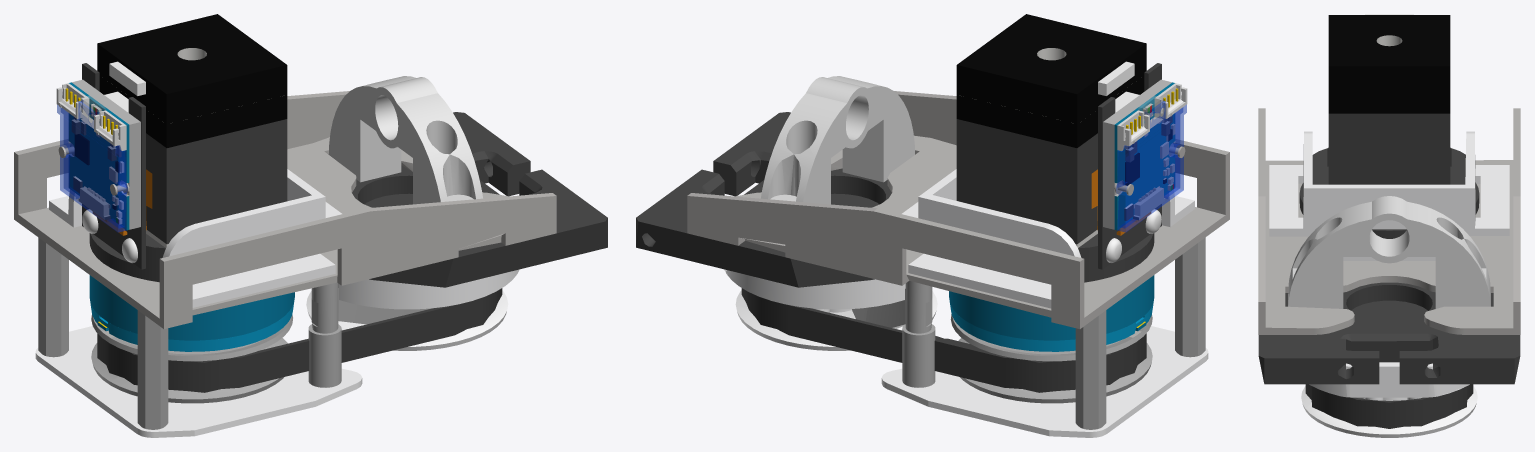
The model's file is hip_sphere_link.dae.
3 renders of one model, left to right at view 1: azimuth 30°, elevation 25°; view 2: azimuth 150°, elevation 25°; view 3: azimuth 270°, elevation 25°, orthographic. The views are drawn at different scales.
Visible parts, largest first — view 1: FBXASC227FBXASC130FBXASC189FBXASC227FBXASC131FBXASC170FBXASC (×25); view 2: FBXASC227FBXASC130FBXASC189FBXASC227FBXASC131FBXASC170FBXASC (×25); view 3: FBXASC227FBXASC130FBXASC189FBXASC227FBXASC131FBXASC170FBXASC (×10).
Part boxes in pixels (x1=…): FBXASC227FBXASC130FBXASC189FBXASC227FBXASC131FBXASC170FBXASC (×25): x1=14, y1=14, x2=607, y2=437; FBXASC227FBXASC130FBXASC189FBXASC227FBXASC131FBXASC170FBXASC (×25): x1=636, y1=14, x2=1229, y2=437; FBXASC227FBXASC130FBXASC189FBXASC227FBXASC131FBXASC170FBXASC (×10): x1=1258, y1=14, x2=1520, y2=437.
Bounding box in the file's own units: 0.1574 × 0.0905 × 0.106.
